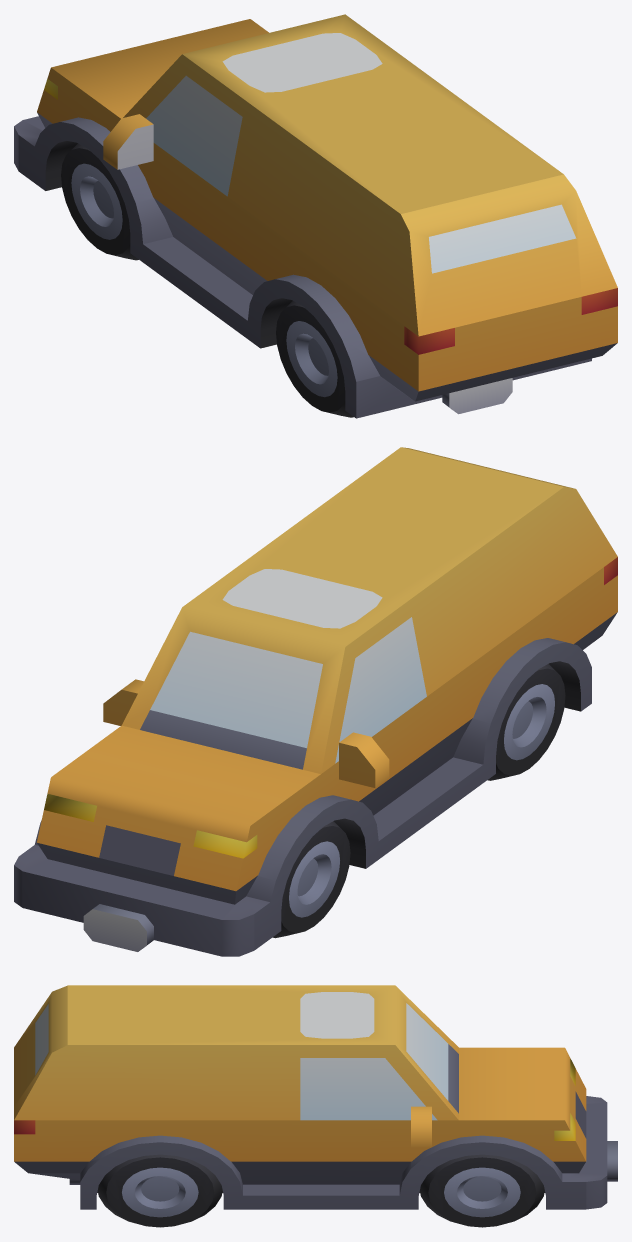
Rendered from kenney-estate.glb.
3 renders of one model, top to bottom at view 1: azimuth 30°, elevation 25°; view 2: azimuth 150°, elevation 25°; view 3: azimuth 270°, elevation 25°, orthographic. The views are drawn at different scales.
Visible parts, largest first — view 1: body, wheel-front-left, wheel-back-left; view 2: body, wheel-back-left, wheel-front-left; view 3: body, wheel-back-right, wheel-front-right.
Part boxes in pixels (bbox=[...]): body: bbox=[14, 14, 617, 418]; wheel-front-left: bbox=[61, 143, 138, 260]; wheel-back-left: bbox=[276, 301, 353, 417]; body: bbox=[14, 447, 617, 956]; wheel-back-left: bbox=[487, 664, 565, 780]; wheel-front-left: bbox=[272, 821, 350, 938]; body: bbox=[14, 985, 617, 1209]; wheel-back-right: bbox=[97, 1154, 222, 1227]; wheel-front-right: bbox=[420, 1154, 544, 1227].
Bounding box in the file's own units: 1.85 × 1.55 × 4.75.
